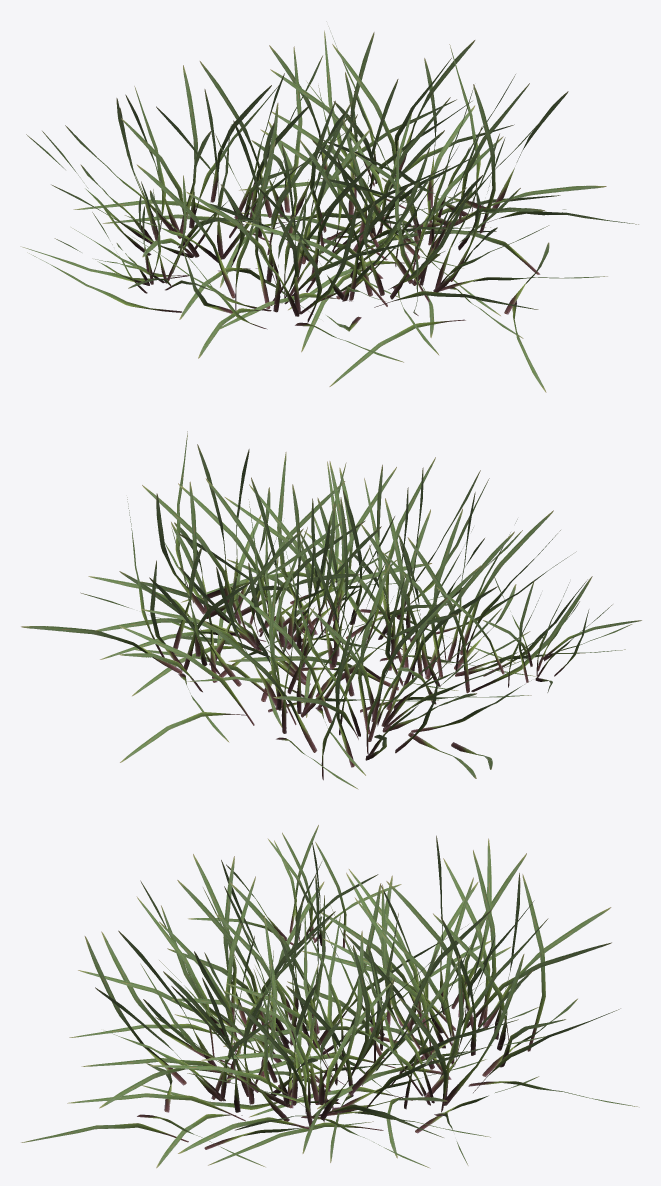
File: grass_05.glb
3 renders of one model, top to bottom at view 1: azimuth 30°, elevation 25°; view 2: azimuth 150°, elevation 25°; view 3: azimuth 270°, elevation 25°, orthographic. The views are drawn at different scales.
Visible parts, largest first — view 1: Object_2; view 2: Object_2; view 3: Object_2.
Boxes of the visible parts, <box> form: Object_2: <box>20,21,638,392</box>; Object_2: <box>21,431,641,789</box>; Object_2: <box>21,825,639,1168</box>.
Size of the model in its own units: 38.56 by 15.1 by 38.52.
Materials: 1 (1 with a texture image).
